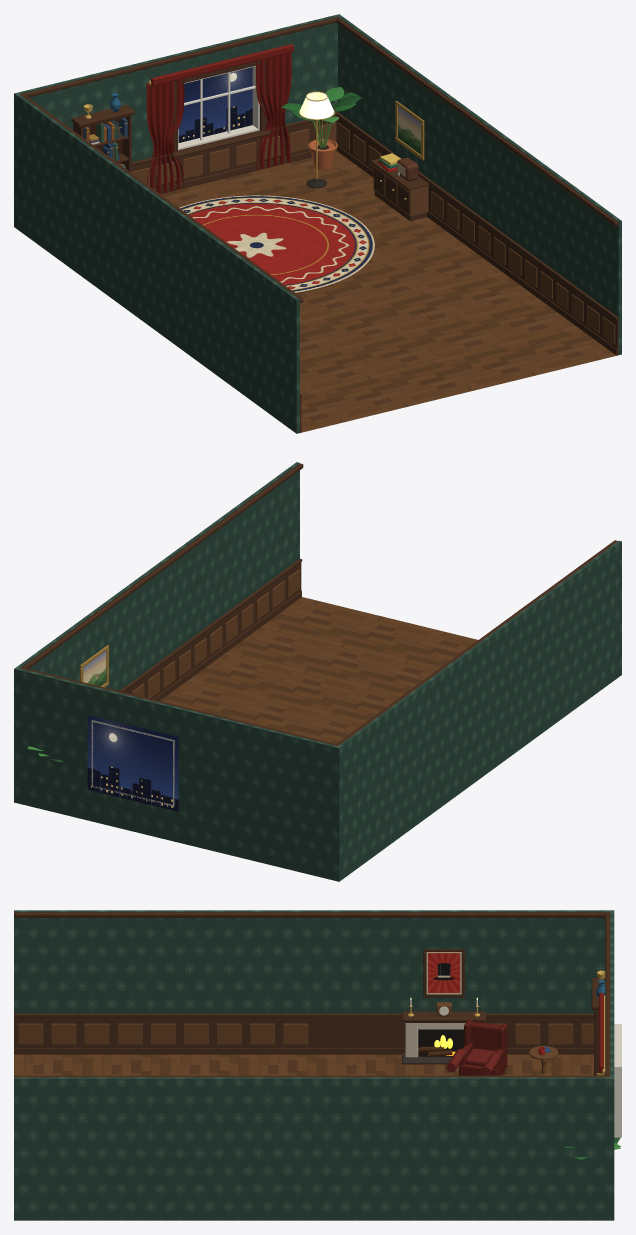
File: room.glb
3 views of the same model, one above another, from view 1: azimuth 30°, elevation 25°; view 2: azimuth 150°, elevation 25°; view 3: azimuth 270°, elevation 25° (orthographic). The views are drawn at different scales.
Visible parts, largest first — view 1: RoomWallpaper, RoomFloor, RoomFlat, RoomRug, RoomGlow, RoomPaintingLandscape; view 2: RoomWallpaper, RoomFloor, RoomFlat, RoomGlow, RoomPaintingLandscape; view 3: RoomWallpaper, RoomFlat, RoomFloor, RoomPosterHat.
Part boxes in pixels (x1,y1,x2,y2): RoomWallpaper: (14, 14, 621, 433); RoomFloor: (161, 151, 616, 432); RoomFlat: (20, 17, 618, 432); RoomRug: (179, 195, 374, 292); RoomGlow: (178, 67, 333, 142); RoomPaintingLandscape: (398, 106, 420, 154); RoomWallpaper: (14, 462, 621, 881); RoomFloor: (160, 597, 477, 743); RoomFlat: (20, 463, 617, 806); RoomGlow: (87, 715, 178, 811); RoomPaintingLandscape: (83, 651, 106, 686); RoomWallpaper: (14, 910, 614, 1220); RoomFlat: (14, 912, 621, 1159); RoomFloor: (14, 1054, 593, 1075); RoomPosterHat: (426, 952, 461, 994).
Bounding box in the file's own units: 41.69 × 16 × 62.2.
11 materials, 6 textured.
